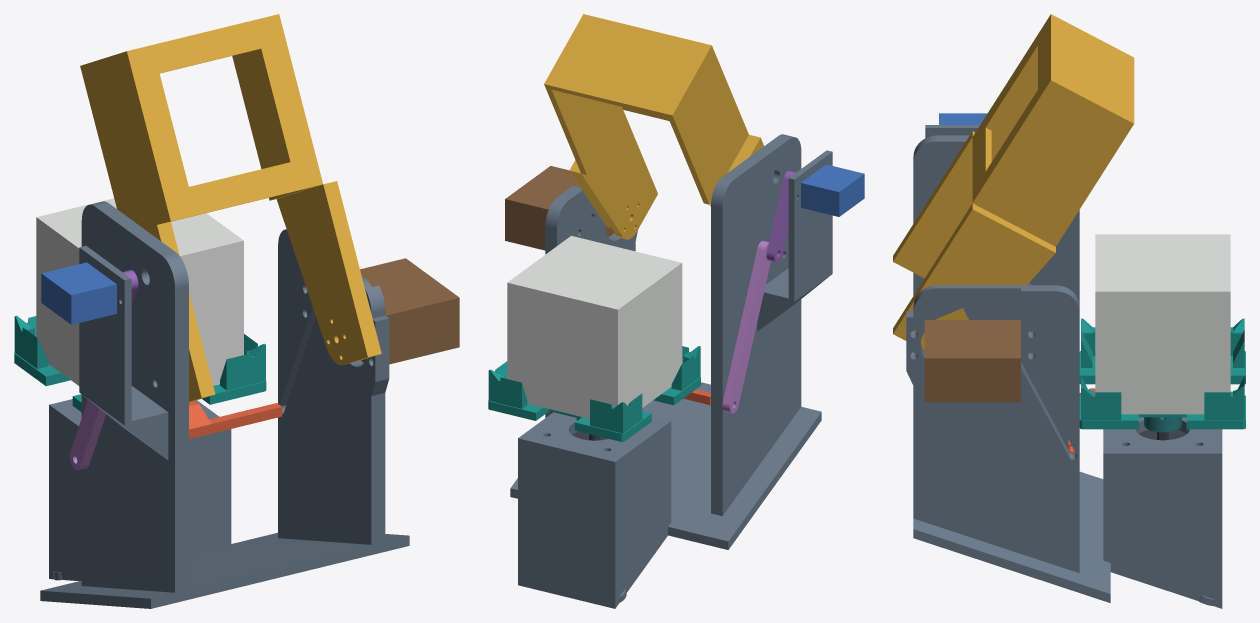
File: robot_assembly.glb
3 renders of one model, left to right at view 1: azimuth 30°, elevation 25°; view 2: azimuth 150°, elevation 25°; view 3: azimuth 270°, elevation 25°, orthographic. The views are drawn at different scales.
Parts seen in each view (by area): view 1: base, hood, cube, mg996r, cube_holder, sg90, lifter, link; view 2: base, hood, cube, cube_holder, mg996r, link, sg90, crank; view 3: base, hood, cube, mg996r, cube_holder, sg90, hub.
Part boxes in pixels (x1,y1,x2,y2): base: [40, 201, 409, 608]; hood: [80, 14, 381, 402]; cube: [36, 198, 243, 385]; mg996r: [360, 258, 459, 364]; cube_holder: [14, 315, 266, 411]; sg90: [41, 262, 116, 324]; lifter: [189, 401, 282, 438]; link: [70, 399, 106, 469]; base: [510, 134, 832, 608]; hood: [544, 14, 763, 239]; cube: [507, 235, 682, 418]; cube_holder: [488, 346, 700, 441]; mg996r: [505, 166, 614, 250]; link: [722, 241, 770, 413]; sg90: [801, 164, 864, 216]; crank: [766, 171, 795, 262]; base: [906, 125, 1222, 608]; hood: [893, 14, 1134, 350]; cube: [1095, 234, 1230, 414]; mg996r: [924, 320, 1020, 402]; cube_holder: [1079, 318, 1245, 429]; sg90: [939, 113, 987, 124]; hub: [1144, 417, 1181, 432].
Size of the model in its own units: 165 by 249 by 149.
